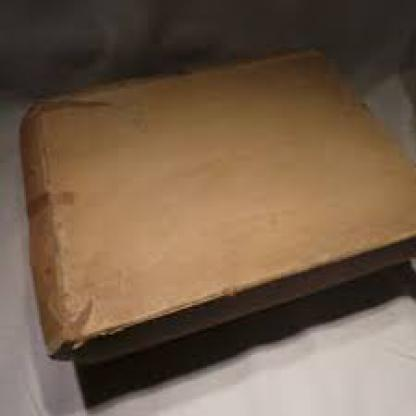CARDBOARD: (19, 44, 414, 360)
